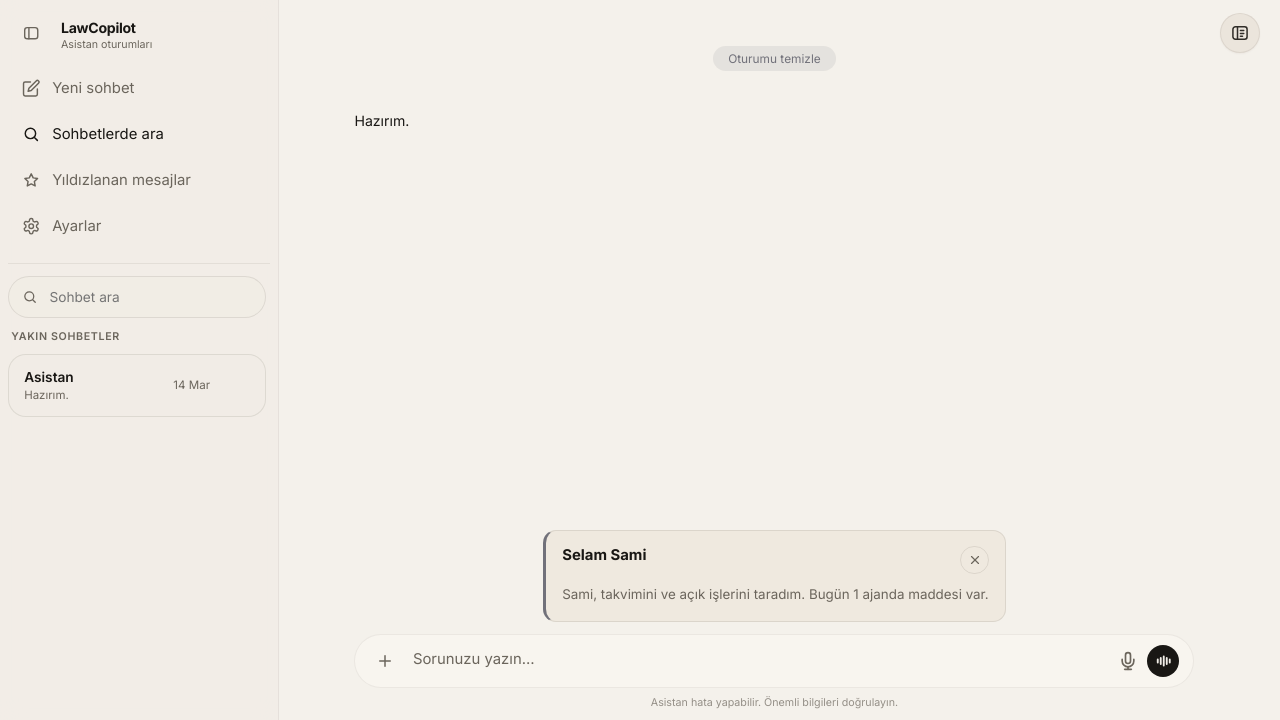
AssistantPage › shows the session brief only once per app session
Expected: the text "Selam Sami" is shown, x1=562 y1=546 x2=646 y2=565
Click the button named "Özet panelini kapat": (975, 560) x1=960 y1=546 x2=989 y2=574
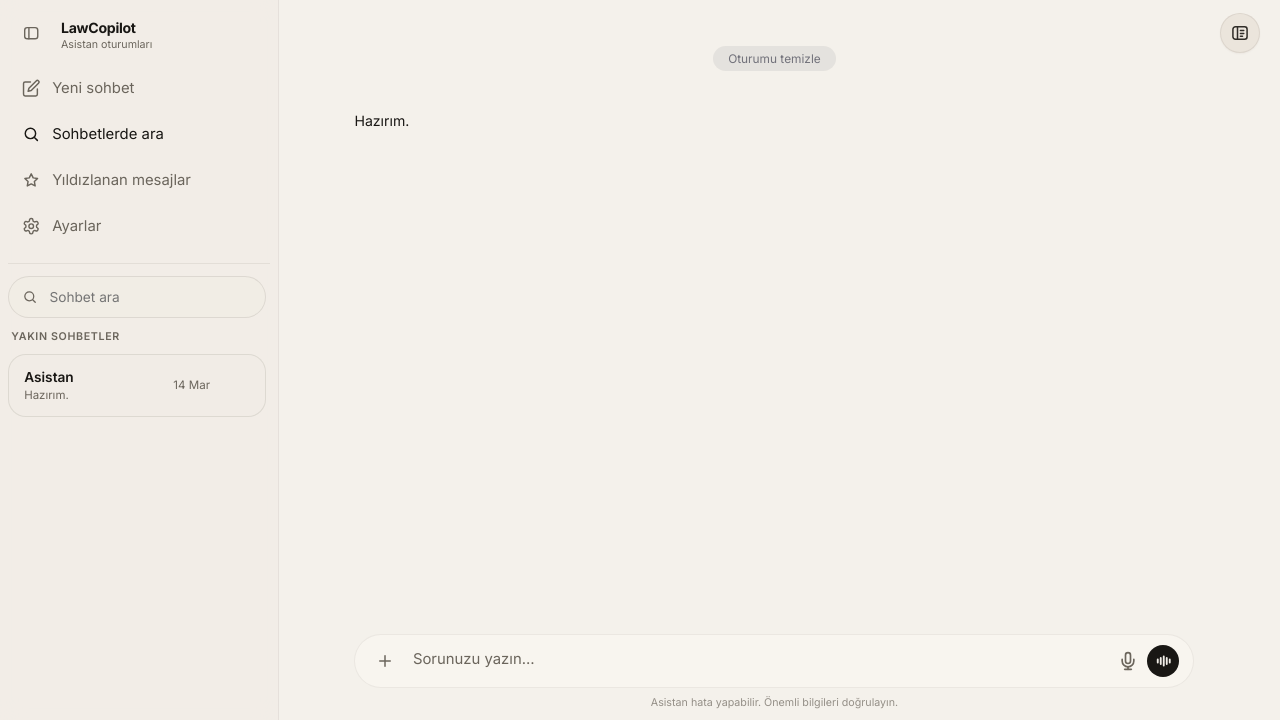
Result: the button "Özet panelini kapat" is gone
